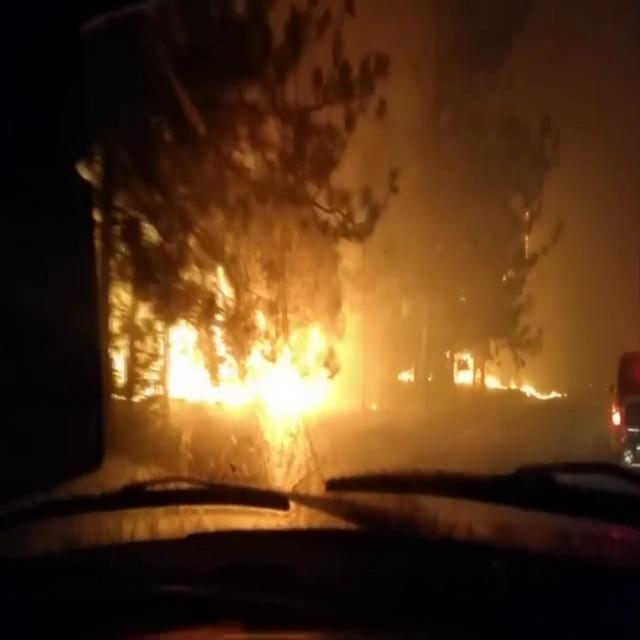Fire: (110, 280, 378, 435), (452, 352, 568, 400), (399, 362, 415, 383)
